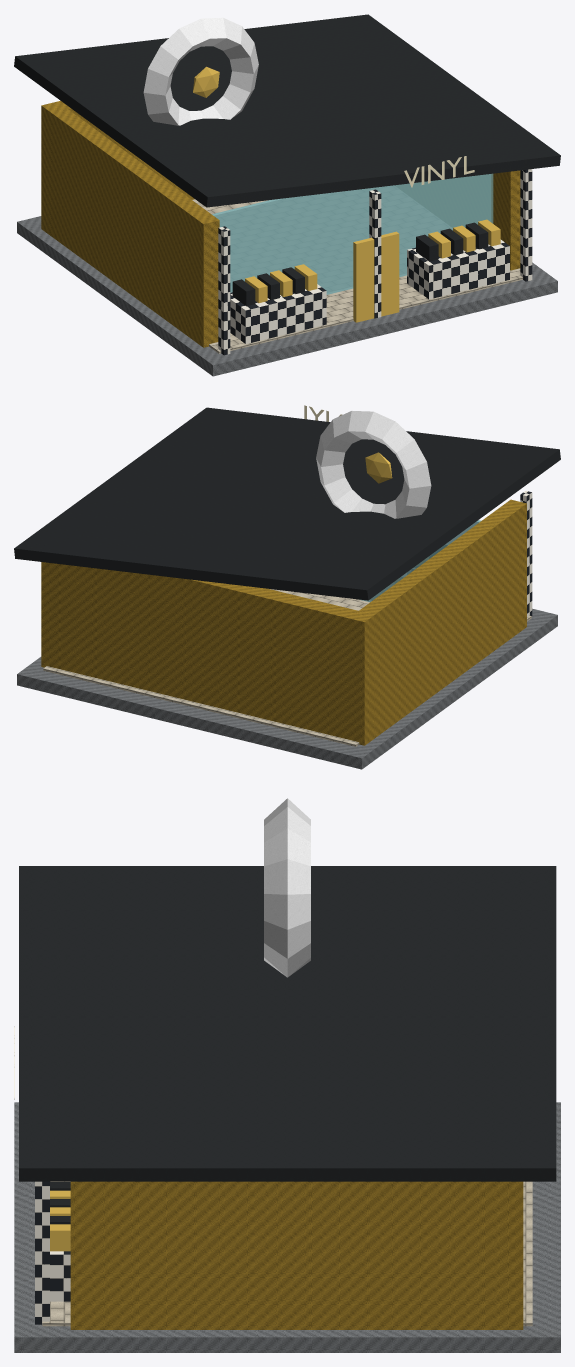
Rendered from storefront_records.glb.
3 views of the same model, one above another, from view 1: azimuth 30°, elevation 25°; view 2: azimuth 150°, elevation 25°; view 3: azimuth 270°, elevation 25° (orthographic). The views are drawn at different scales.
Parts seen in each view (by area): view 1: slanted_roof, side_wall, window_back, foundation, rooftop_vinyl, record_bin.001, record_bin, door, floor, side_wall.001, rear_wall, front_post (+6 smaller); view 2: slanted_roof, rear_wall, side_wall, foundation, rooftop_vinyl, floor, front_post, record_label; view 3: slanted_roof, side_wall.001, foundation, rooftop_vinyl, rear_wall, front_post.002, floor, record_bin.001.
Part boxes in pixels (x1,y1,x2,y2): slanted_roof: (14,14,560,207); side_wall: (48,109,219,347); window_back: (212,173,493,294); foundation: (17,216,557,376); rooftop_vinyl: (143,17,258,125); record_bin.001: (407,239,509,299); record_bin: (230,284,326,343); door: (353,231,399,322); floor: (192,199,522,353); side_wall.001: (491,170,520,270); rear_wall: (41,101,194,235); front_post: (218,226,230,355); slanted_roof: (14,407,560,600); rear_wall: (41,562,374,745); side_wall: (356,499,526,737); foundation: (17,608,557,769); rooftop_vinyl: (316,411,431,518); floor: (43,589,531,746); front_post: (520,491,532,616); record_label: (365,452,392,483); slanted_roof: (19,866,556,1181); side_wall.001: (70,1181,504,1329); foundation: (14,1102,560,1352); rooftop_vinyl: (264,798,310,977); rear_wall: (495,1181,523,1329); front_post.002: (35,1181,49,1324); floor: (42,1181,532,1326); record_bin.001: (50,1251,70,1301).
Size of the model in its own units: 6.6 by 4.72 by 6.32.
9 materials, 6 textured.
